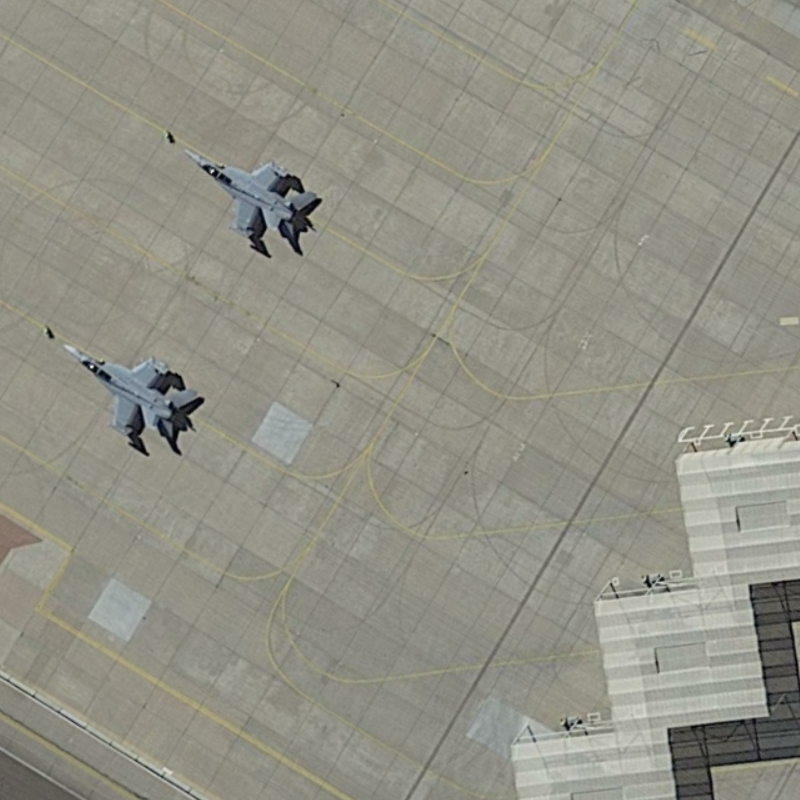A16: (54, 329, 208, 444), (178, 143, 327, 254)
